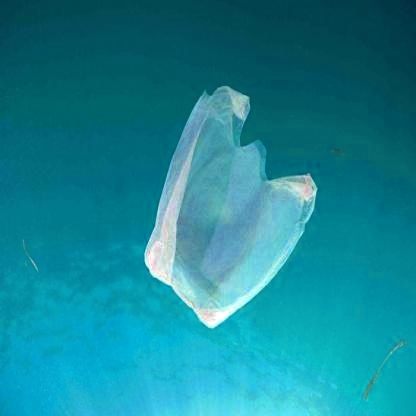pbag: (137, 75, 322, 332)
